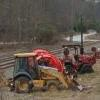Tractor: (8, 36, 76, 99)
